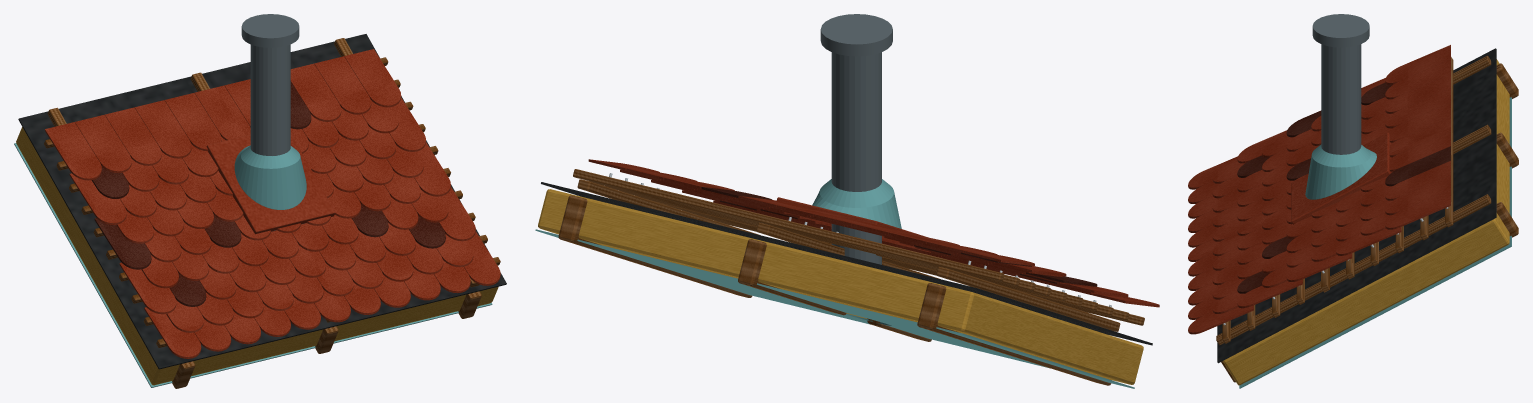
Rendered from modell.glb.
3 views of the same model, side by side, from view 1: azimuth 30°, elevation 25°; view 2: azimuth 150°, elevation 25°; view 3: azimuth 270°, elevation 25° (orthographic). The views are drawn at different scales.
Parts seen in each view (by area): view 1: s11-deckziegel_deckung, s11-zusatzebene_zusatzebene, s11-daemmung_daemmung, s11-rohr_, s11-deckziegel_deckung.001, s11-formteil_deckung, s11-formteil_deckung.001, s11-lattung_lattung, s11-luftdichtheit_luftdichtheit, s11-sparren_tragwerk; view 2: s11-daemmung_daemmung, s11-lattung_lattung, s11-rohr_, s11-deckziegel_deckung, s11-sparren_tragwerk, s11-luftdichtheit_luftdichtheit, s11-zusatzebene_zusatzebene, s11-formteil_deckung.001, s11-deckziegel_deckung.001, s11-formteil_deckung; view 3: s11-deckziegel_deckung, s11-zusatzebene_zusatzebene, s11-daemmung_daemmung, s11-rohr_, s11-lattung_lattung, s11-deckziegel_deckung.001, s11-formteil_deckung.001, s11-formteil_deckung, s11-luftdichtheit_luftdichtheit, s11-sparren_tragwerk.
Part boxes in pixels (box(x1,y1,x2,y2)): s11-deckziegel_deckung: box(45, 49, 500, 358); s11-zusatzebene_zusatzebene: box(18, 34, 506, 369); s11-daemmung_daemmung: box(16, 127, 498, 385); s11-rohr_: box(241, 14, 299, 230); s11-deckziegel_deckung.001: box(91, 81, 445, 306); s11-formteil_deckung: box(206, 133, 335, 234); s11-formteil_deckung.001: box(234, 145, 306, 209); s11-lattung_lattung: box(44, 38, 500, 347); s11-luftdichtheit_luftdichtheit: box(14, 143, 492, 387); s11-sparren_tragwerk: box(172, 291, 481, 388); s11-daemmung_daemmung: box(538, 189, 1143, 384); s11-lattung_lattung: box(573, 169, 1144, 331); s11-rohr_: box(820, 14, 892, 264); s11-deckziegel_deckung: box(588, 159, 1159, 307); s11-sparren_tragwerk: box(558, 195, 1111, 385); s11-luftdichtheit_luftdichtheit: box(535, 229, 1134, 388); s11-zusatzebene_zusatzebene: box(541, 182, 1152, 345); s11-formteil_deckung.001: box(812, 179, 901, 228); s11-deckziegel_deckung.001: box(701, 186, 1097, 286); s11-formteil_deckung: box(776, 197, 928, 237); s11-deckziegel_deckung: box(1188, 45, 1450, 334); s11-zusatzebene_zusatzebene: box(1217, 48, 1496, 363); s11-daemmung_daemmung: box(1223, 59, 1509, 385); s11-rohr_: box(1312, 14, 1369, 154); s11-lattung_lattung: box(1216, 55, 1491, 345); s11-deckziegel_deckung.001: box(1237, 82, 1450, 293); s11-formteil_deckung.001: box(1305, 144, 1376, 199); s11-formteil_deckung: box(1291, 132, 1390, 224); s11-luftdichtheit_luftdichtheit: box(1239, 97, 1511, 388); s11-sparren_tragwerk: box(1221, 63, 1518, 382).
Size of the model in its own units: 2.09 by 1.65 by 1.74.
Materials: 8 (5 with a texture image).
